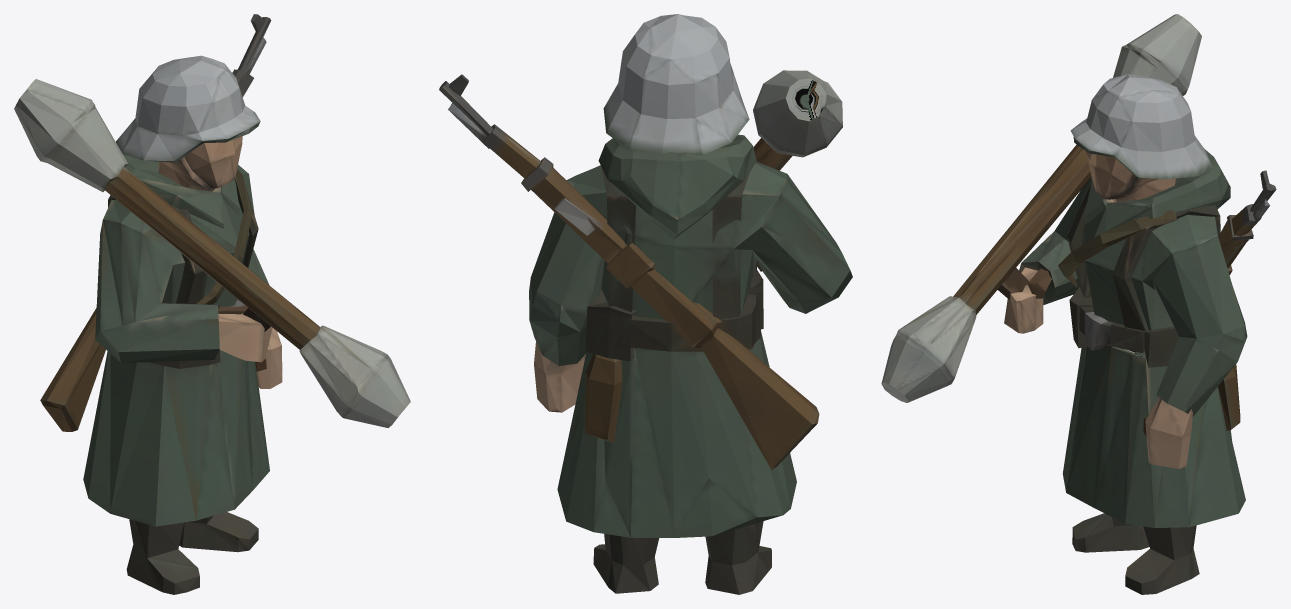
File: bulge_german_inf_2.glb
3 views of the same model, side by side, from view 1: azimuth 30°, elevation 25°; view 2: azimuth 150°, elevation 25°; view 3: azimuth 270°, elevation 25° (orthographic). The views are drawn at different scales.
Parts seen in each view (by area): view 1: geometry_0; view 2: geometry_0; view 3: geometry_0.
Boxes of the visible parts, bbox=[...] form: geometry_0: bbox=[14, 14, 410, 594]; geometry_0: bbox=[439, 14, 852, 594]; geometry_0: bbox=[881, 14, 1276, 594].
Size of the model in its own units: 0.2033 by 0.324 by 0.238.
Materials: 1 (1 with a texture image).
